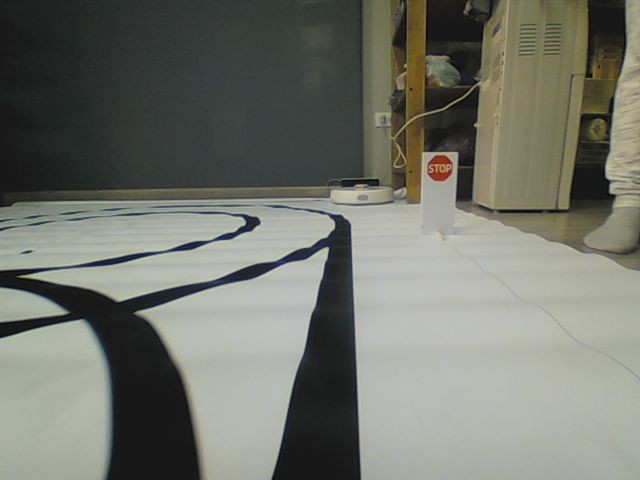Stop: (425, 155, 455, 182)
